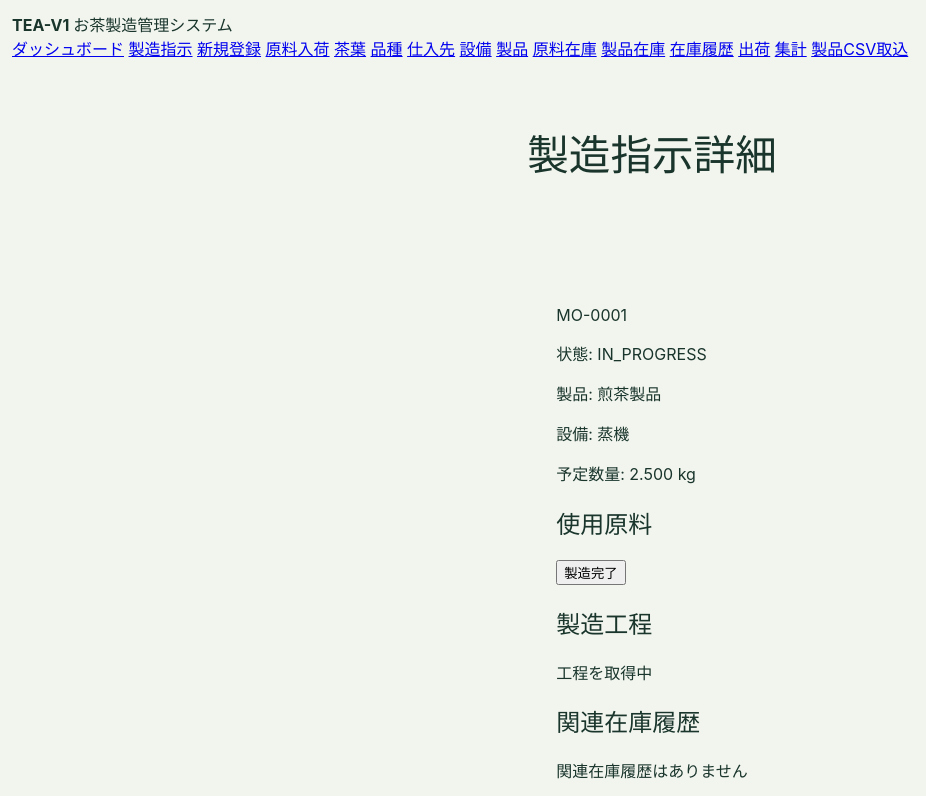
Test: 状態操作中はボタンをdisabledにして連続操作を防ぐ
Step 1. Click the button "製造完了" → coordinates (591, 572), box [556,560,626,585]
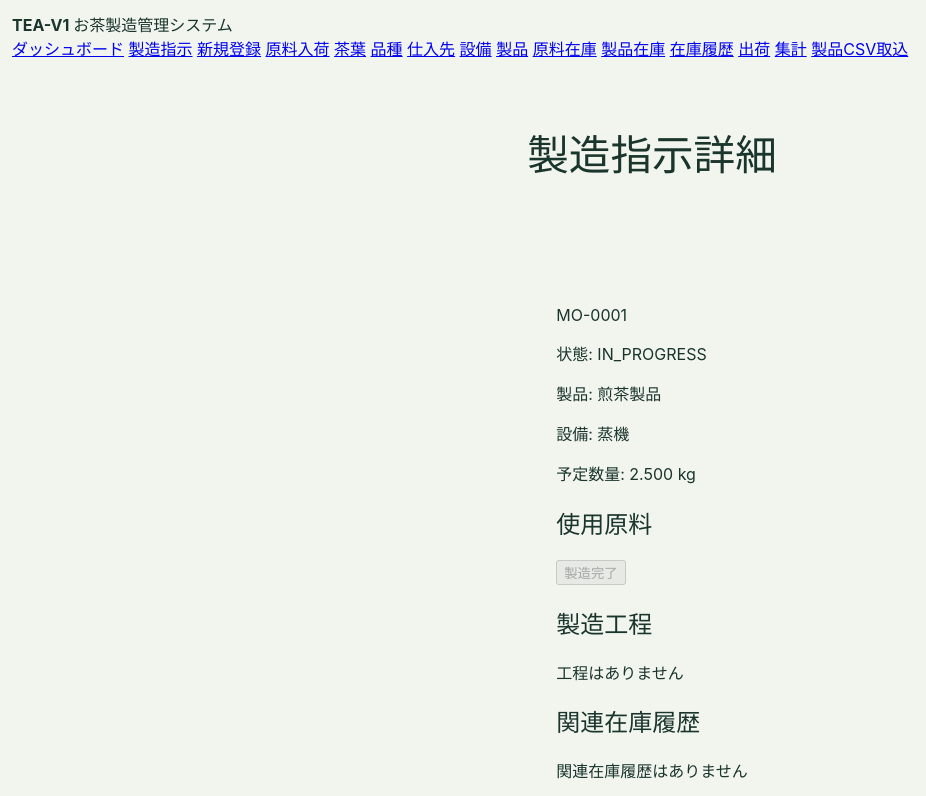
Expected: the button "製造完了" is disabled, [556,560,626,585]
